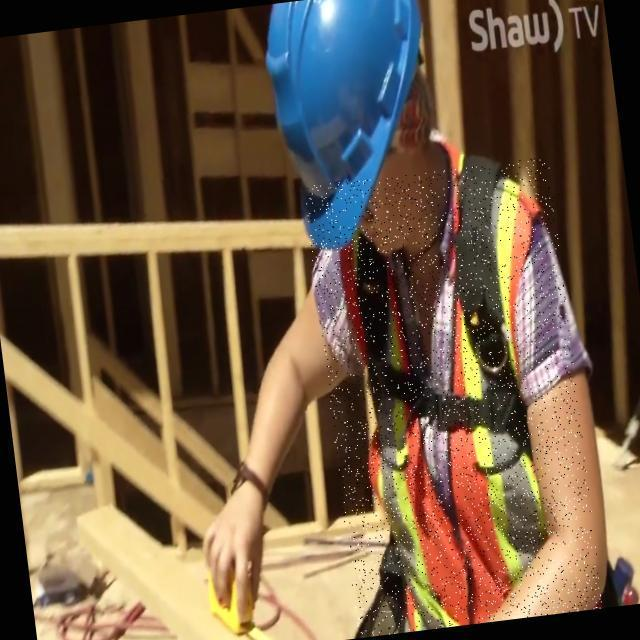helmet: (254, 0, 439, 266)
vest: (303, 156, 604, 638)
